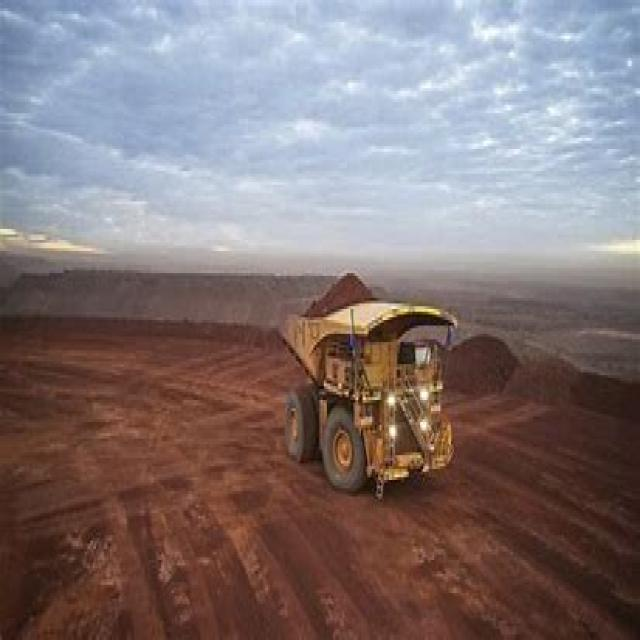dump_truck: (272, 257, 456, 491)
